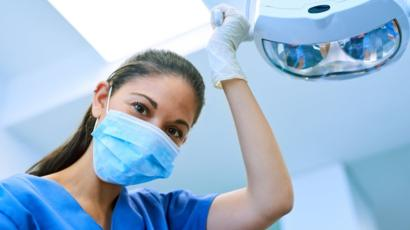surgical: (81, 107, 181, 188)
